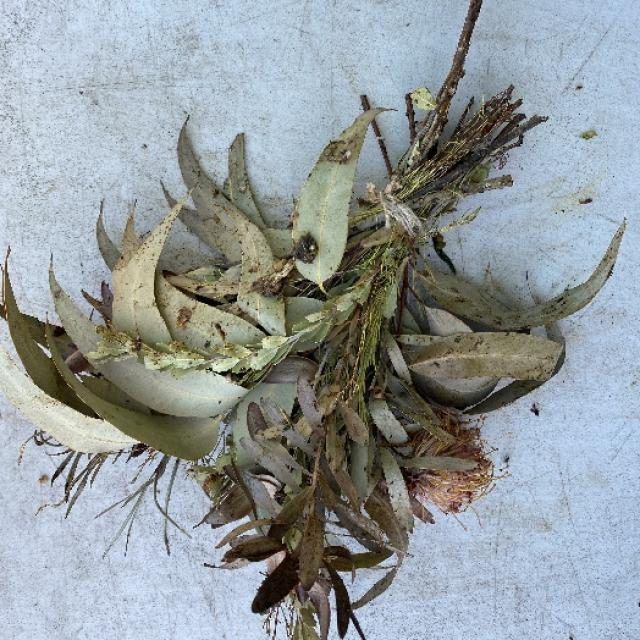organik: (1, 64, 623, 638)
